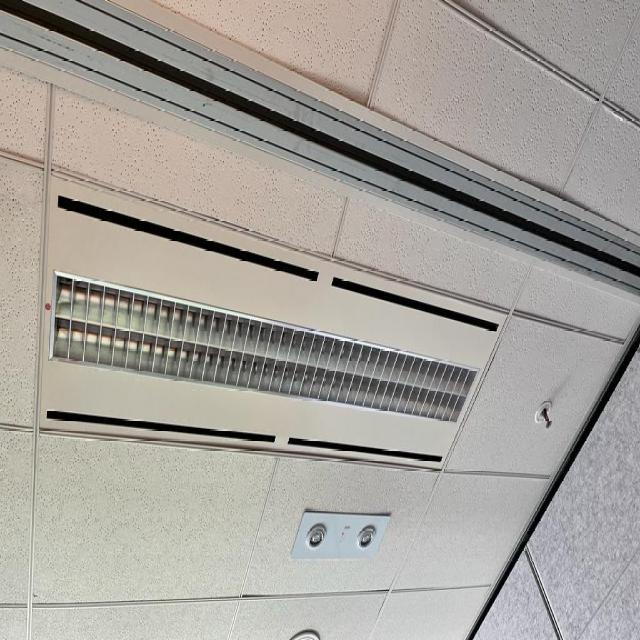Light-Closed: (36, 165, 508, 474)
